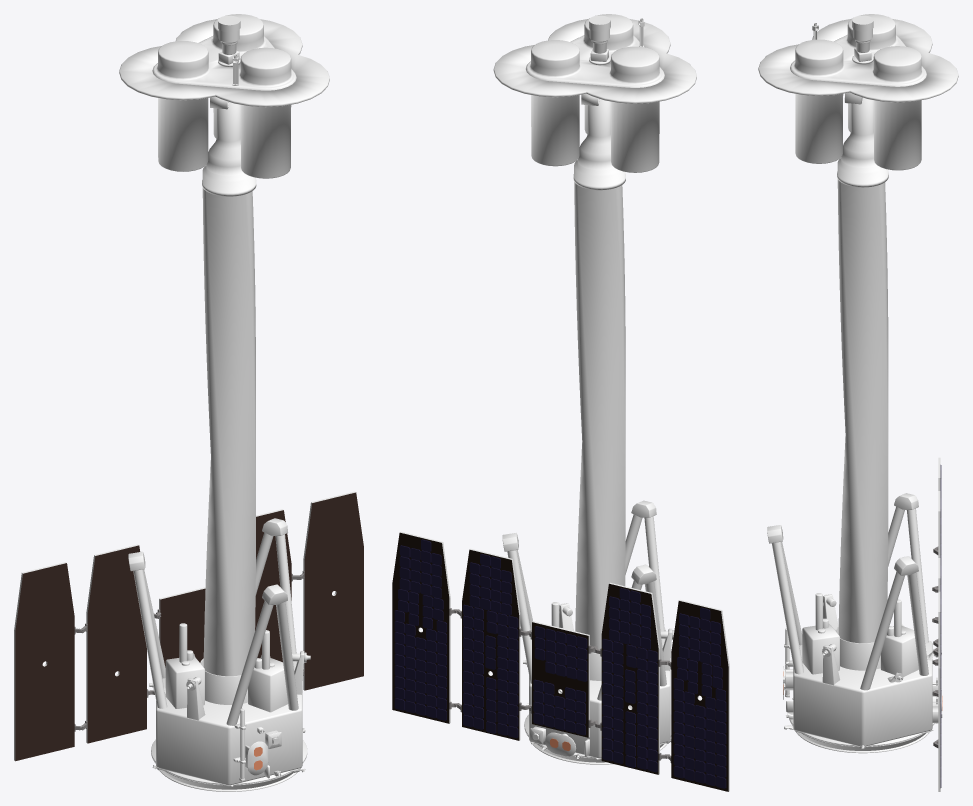
The model's file is sc_ixpe.glb.
The picture shows the model from 3 angles, left to right: view 1: azimuth 30°, elevation 25°; view 2: azimuth 150°, elevation 25°; view 3: azimuth 270°, elevation 25°; orthographic projection. The views are drawn at different scales.
Visible parts, largest first — view 1: solar_panel, IXPE_Mast.obj, IXPE_Sensor.obj, BUS, IXPE_Base.obj.016, IXPE_Base.obj.012; view 2: solar_cells, IXPE_Sensor.obj, IXPE_Mast.obj, solar_panel, BUS; view 3: IXPE_Mast.obj, BUS, IXPE_Sensor.obj, solar_panel, IXPE_Base.obj.016, solar_cells, IXPE_Sensor.obj.003, IXPE_Base.obj.012.
Boxes of the visible parts, box(x1,y1,x2,y2) form: solar_panel: box(14, 491, 363, 761); IXPE_Mast.obj: box(202, 188, 255, 676); IXPE_Sensor.obj: box(119, 14, 329, 196); BUS: box(128, 518, 305, 785); IXPE_Base.obj.016: box(151, 753, 307, 791); IXPE_Base.obj.012: box(151, 739, 307, 786); solar_cells: box(394, 539, 726, 788); IXPE_Sensor.obj: box(493, 14, 696, 190); IXPE_Mast.obj: box(574, 182, 625, 652); solar_panel: box(392, 531, 729, 791); BUS: box(502, 500, 672, 758); IXPE_Mast.obj: box(837, 179, 888, 643); BUS: box(767, 493, 941, 748); IXPE_Sensor.obj: box(758, 14, 958, 187); solar_panel: box(932, 457, 940, 791); IXPE_Base.obj.016: box(789, 719, 934, 753); solar_cells: box(940, 465, 941, 787); IXPE_Sensor.obj.003: box(852, 15, 873, 42); IXPE_Base.obj.012: box(788, 698, 934, 747).
Size of the model in its own units: 0.8927 by 1.81 by 0.4676.
